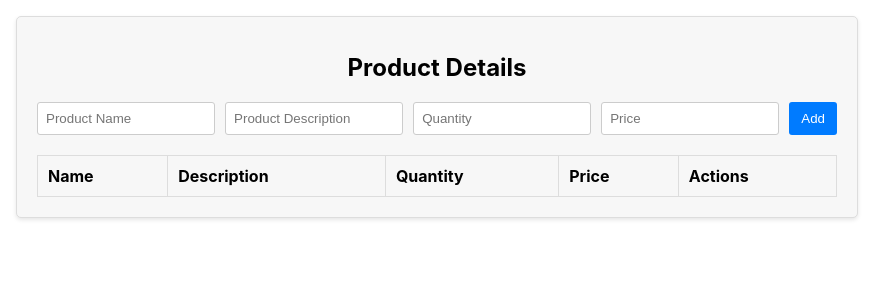
Test: App › adds_a_product_when_add_button_is_clicked
The width and height of the screenshot is (875, 289).
Type "New Product" into the field with placeholder "Product Name" at (126, 119), box left=37, top=102, right=215, bottom=135
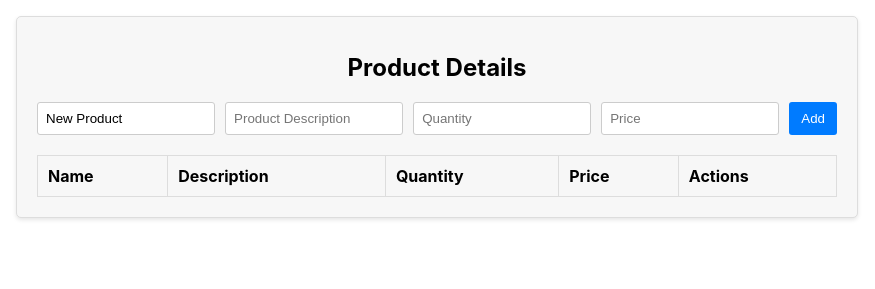
Type "New Description" into the field with placeholder "Product Description" at (314, 119), box left=225, top=102, right=403, bottom=135
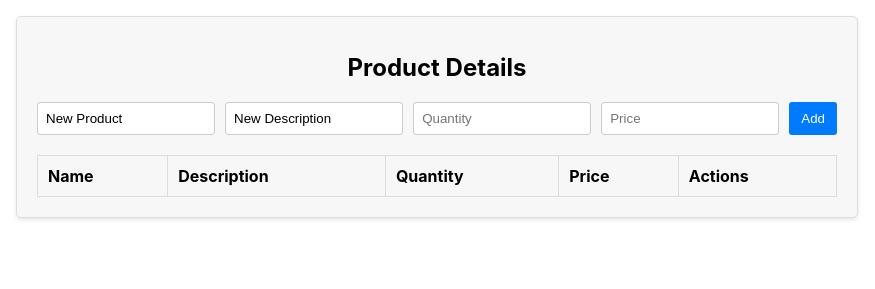
Type "10" into the number field with placeholder "Quantity" at (502, 119), box left=413, top=102, right=591, bottom=135
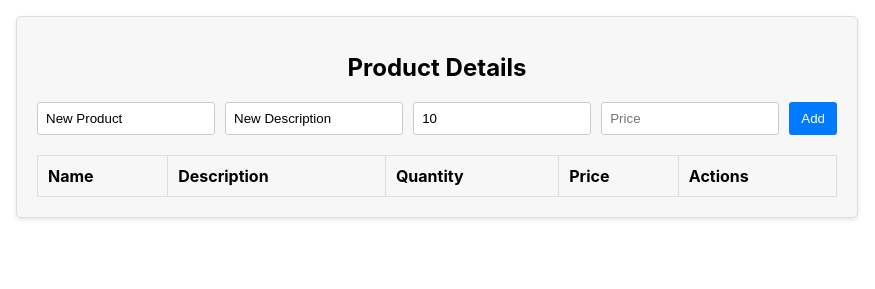
Type "19.99" into the number field with placeholder "Price" at (690, 119), box left=601, top=102, right=779, bottom=135
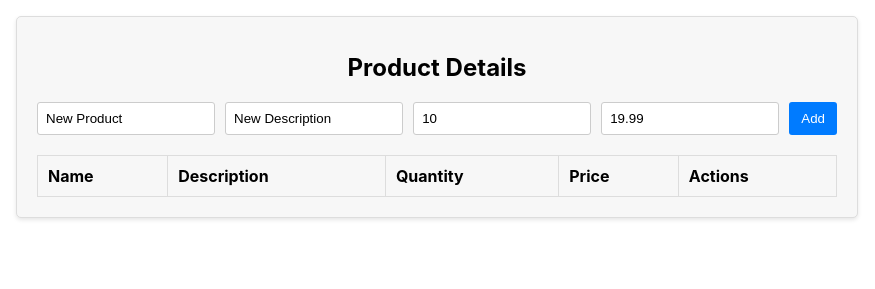
Click the button "Add" at (813, 119), box left=789, top=102, right=837, bottom=135
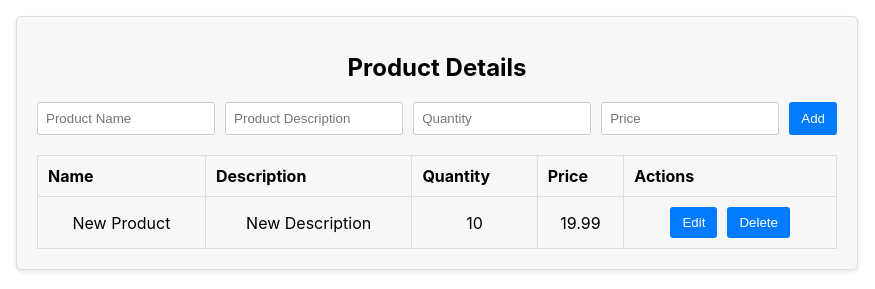
Check: the text "New Product" is shown, box left=38, top=197, right=205, bottom=249
Check: the text "New Description" is shown, box left=205, top=197, right=412, bottom=249
Check: the text "10" is shown, box left=412, top=197, right=537, bottom=249
